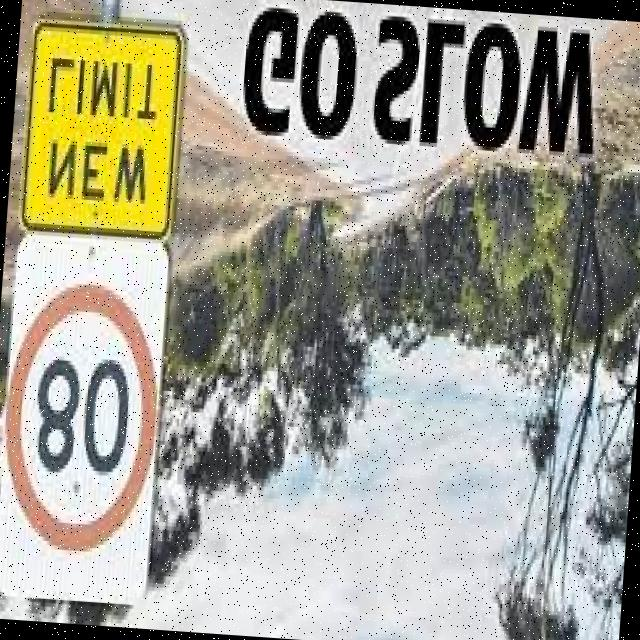speed_limit_80: (0, 272, 169, 561)
